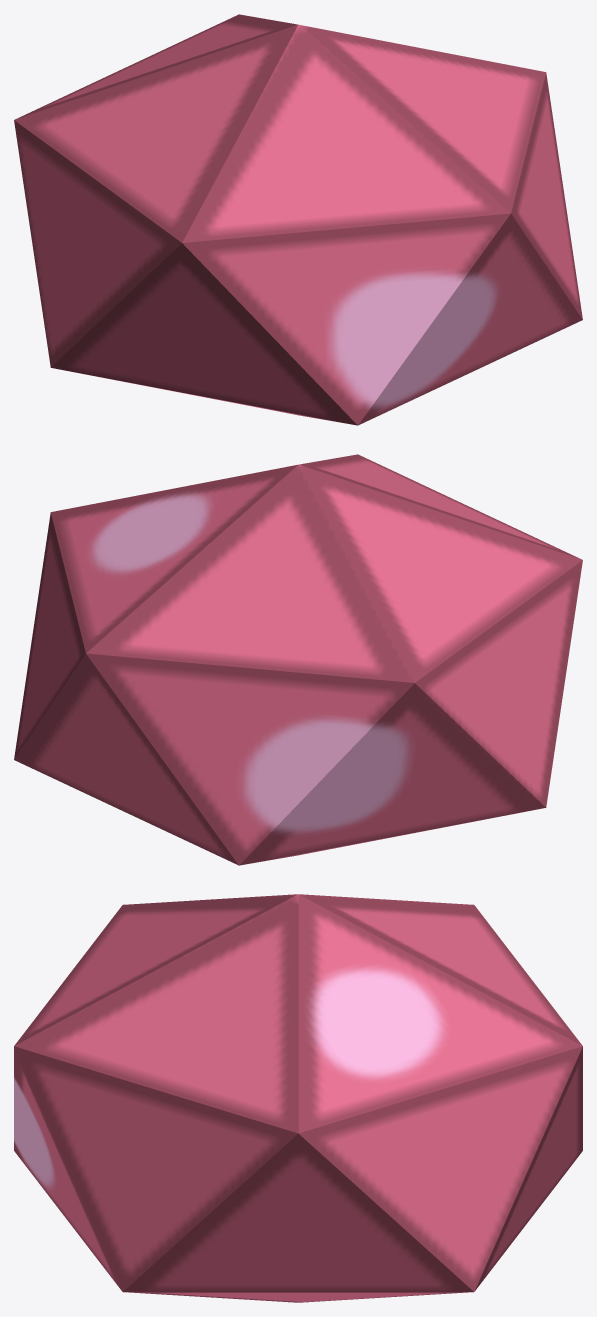
The model's file is gem.fbx.
The picture shows the model from 3 angles, top to bottom: view 1: azimuth 30°, elevation 25°; view 2: azimuth 150°, elevation 25°; view 3: azimuth 270°, elevation 25°; orthographic projection. The views are drawn at different scales.
Visible parts, largest first — view 1: Icosphere; view 2: Icosphere; view 3: Icosphere.
Boxes of the visible parts, bbox=[...] form: Icosphere: bbox=[14, 14, 582, 425]; Icosphere: bbox=[14, 454, 582, 865]; Icosphere: bbox=[14, 894, 582, 1302].
Bounding box in the file's own units: 180 × 171 × 135.
